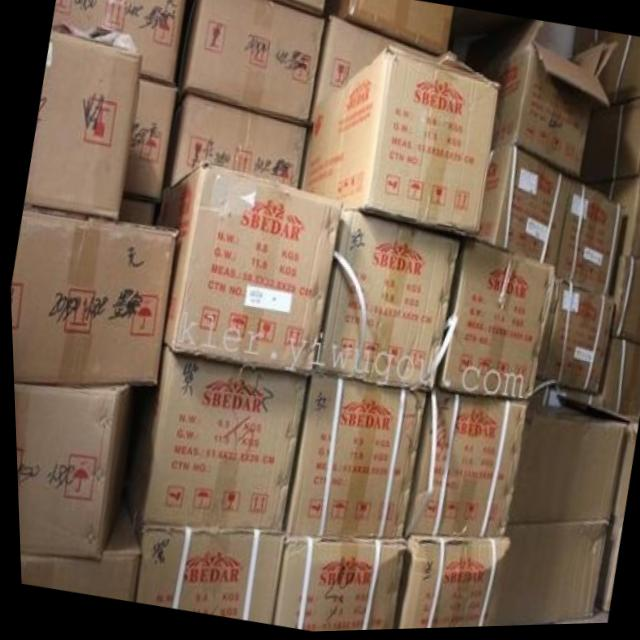box: (298, 48, 500, 241), (158, 164, 342, 375), (121, 342, 305, 535), (9, 205, 176, 384), (311, 210, 458, 395), (454, 23, 617, 182), (279, 375, 423, 542), (11, 382, 141, 560), (22, 30, 142, 221), (430, 241, 553, 404), (121, 502, 281, 624), (399, 392, 528, 543), (173, 0, 325, 128), (503, 399, 625, 528), (159, 96, 308, 195), (461, 147, 571, 271), (267, 538, 402, 633), (16, 501, 137, 601), (490, 524, 603, 629), (52, 0, 188, 86), (314, 17, 442, 106), (389, 535, 506, 631), (532, 274, 613, 399), (553, 183, 624, 300), (591, 424, 634, 616), (330, 0, 453, 57), (122, 80, 177, 199), (563, 341, 640, 423), (572, 102, 640, 186), (578, 179, 640, 265), (592, 34, 640, 111), (608, 260, 640, 348), (117, 196, 153, 226), (269, 0, 325, 17)
